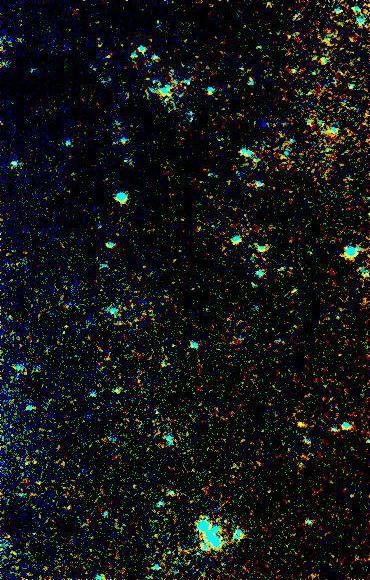star: (288, 410, 318, 440)
